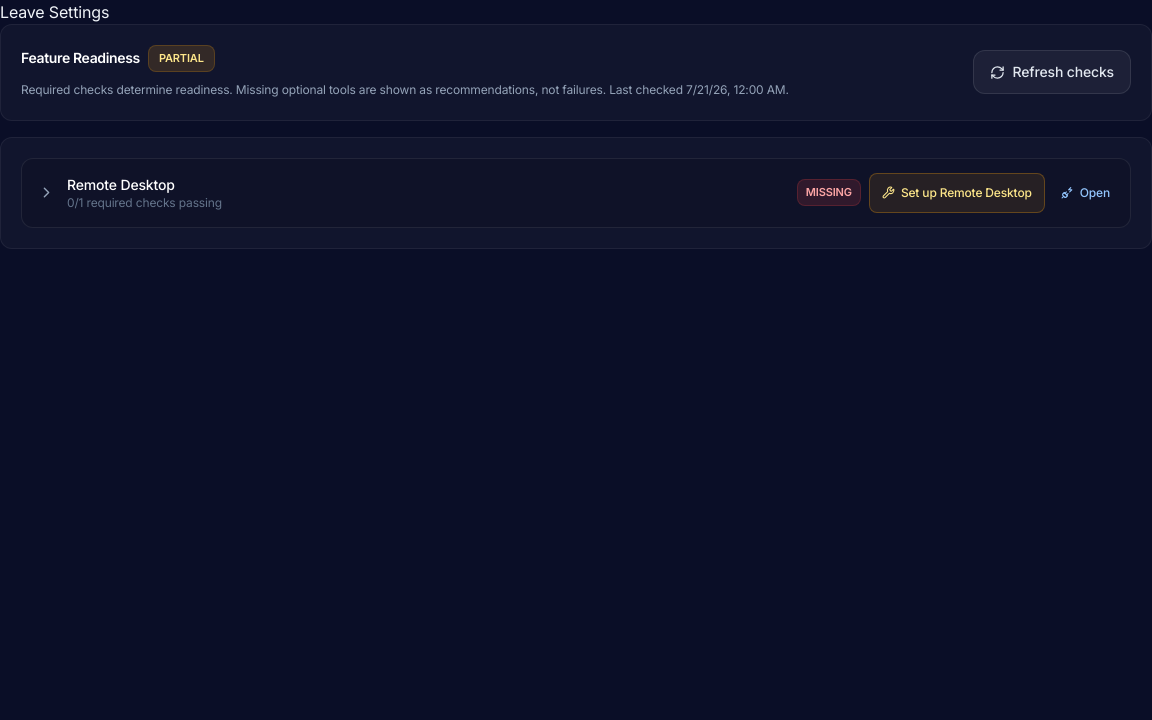
Test: FeatureReadinessPanel owner setup admission › retains an accepted setup across readback failure and retries only the forced GET
The image size is (1152, 720).
Click the button "Set up Remote Desktop" at x=957, y=192, box [869,172,1045,212]
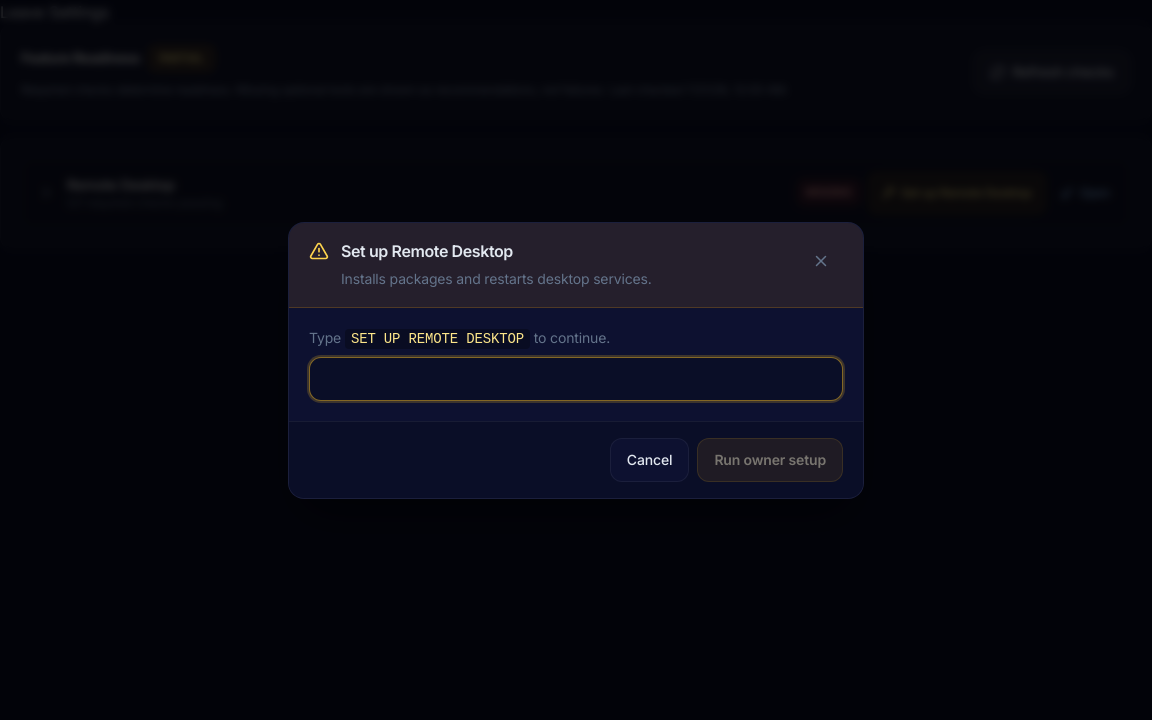
Type "SET UP REMOTE DESKTOP" into the field labelled "Type SET UP REMOTE DESKTOP to continue." at x=576, y=378, box [309,356,843,400]
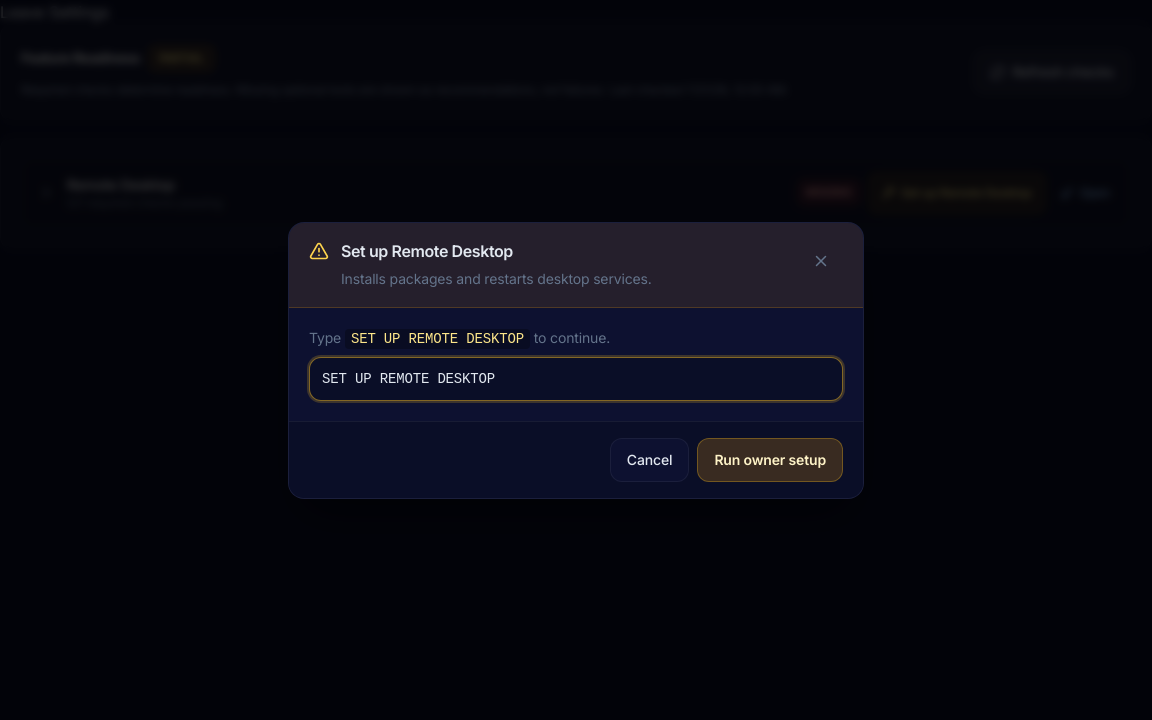
Click the button "Run owner setup" at x=770, y=460, box [697,438,843,482]
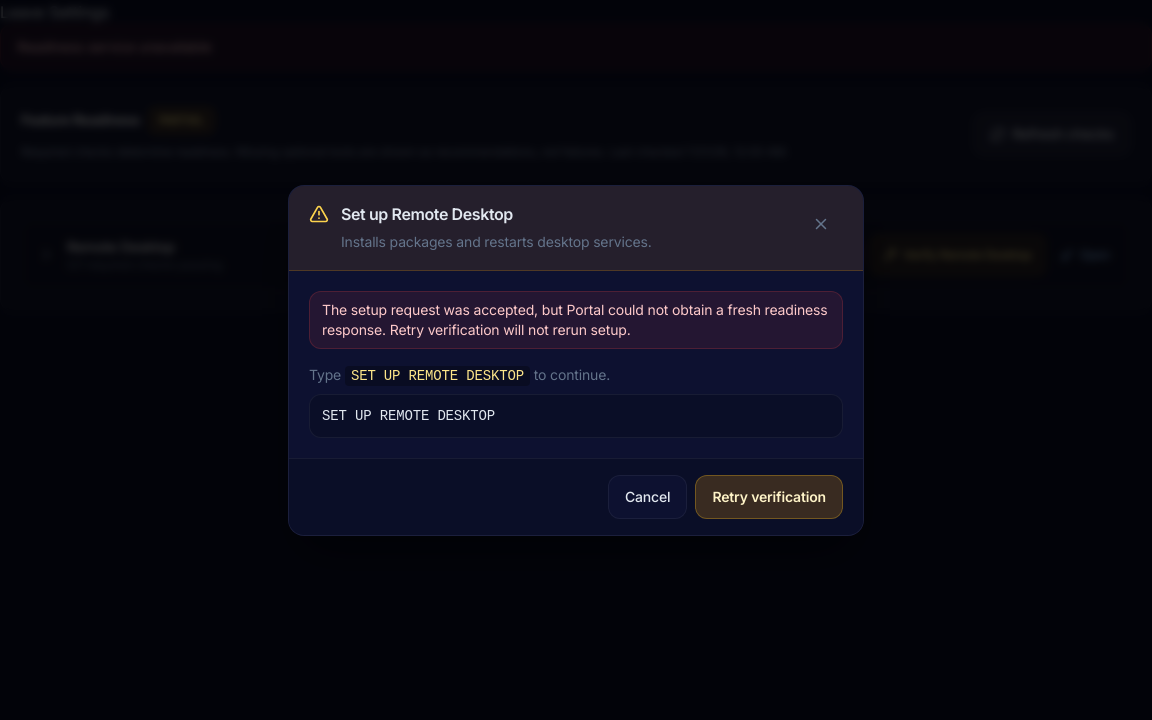
Check: the message shows "could not obtain a fresh readiness response", box [322,300,828,338]
Click the button "Retry verification" at x=769, y=496, box [695,474,843,518]
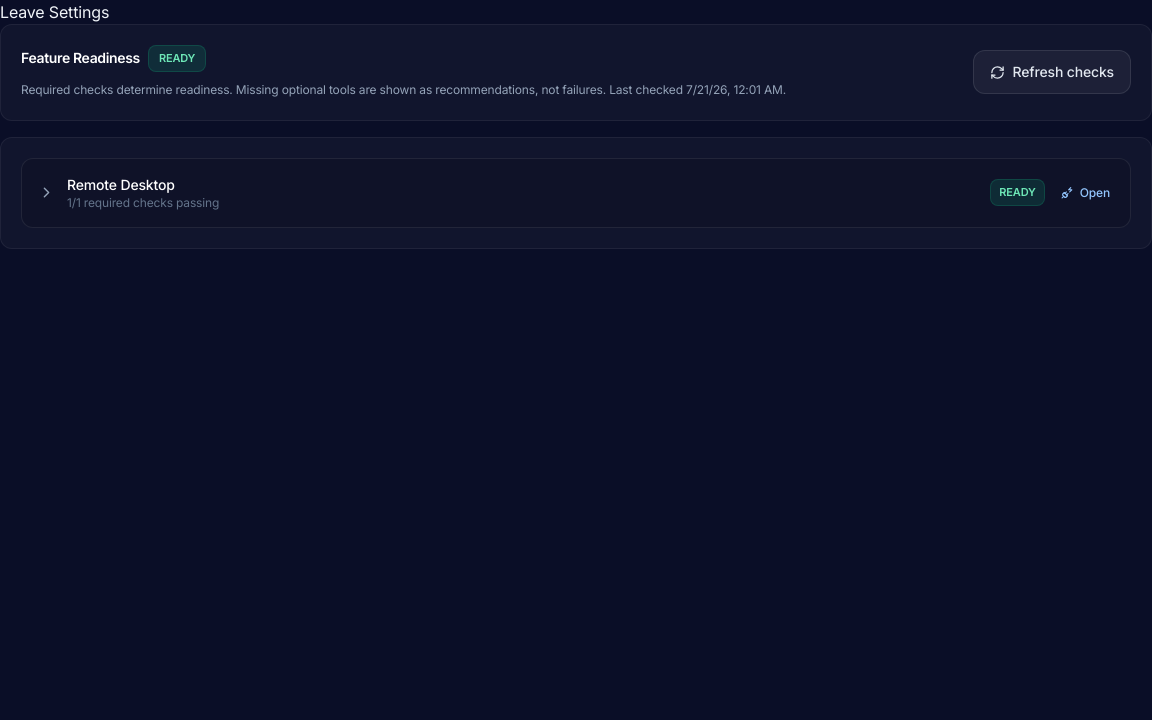
Check: the heading "Set up Remote Desktop" is gone
